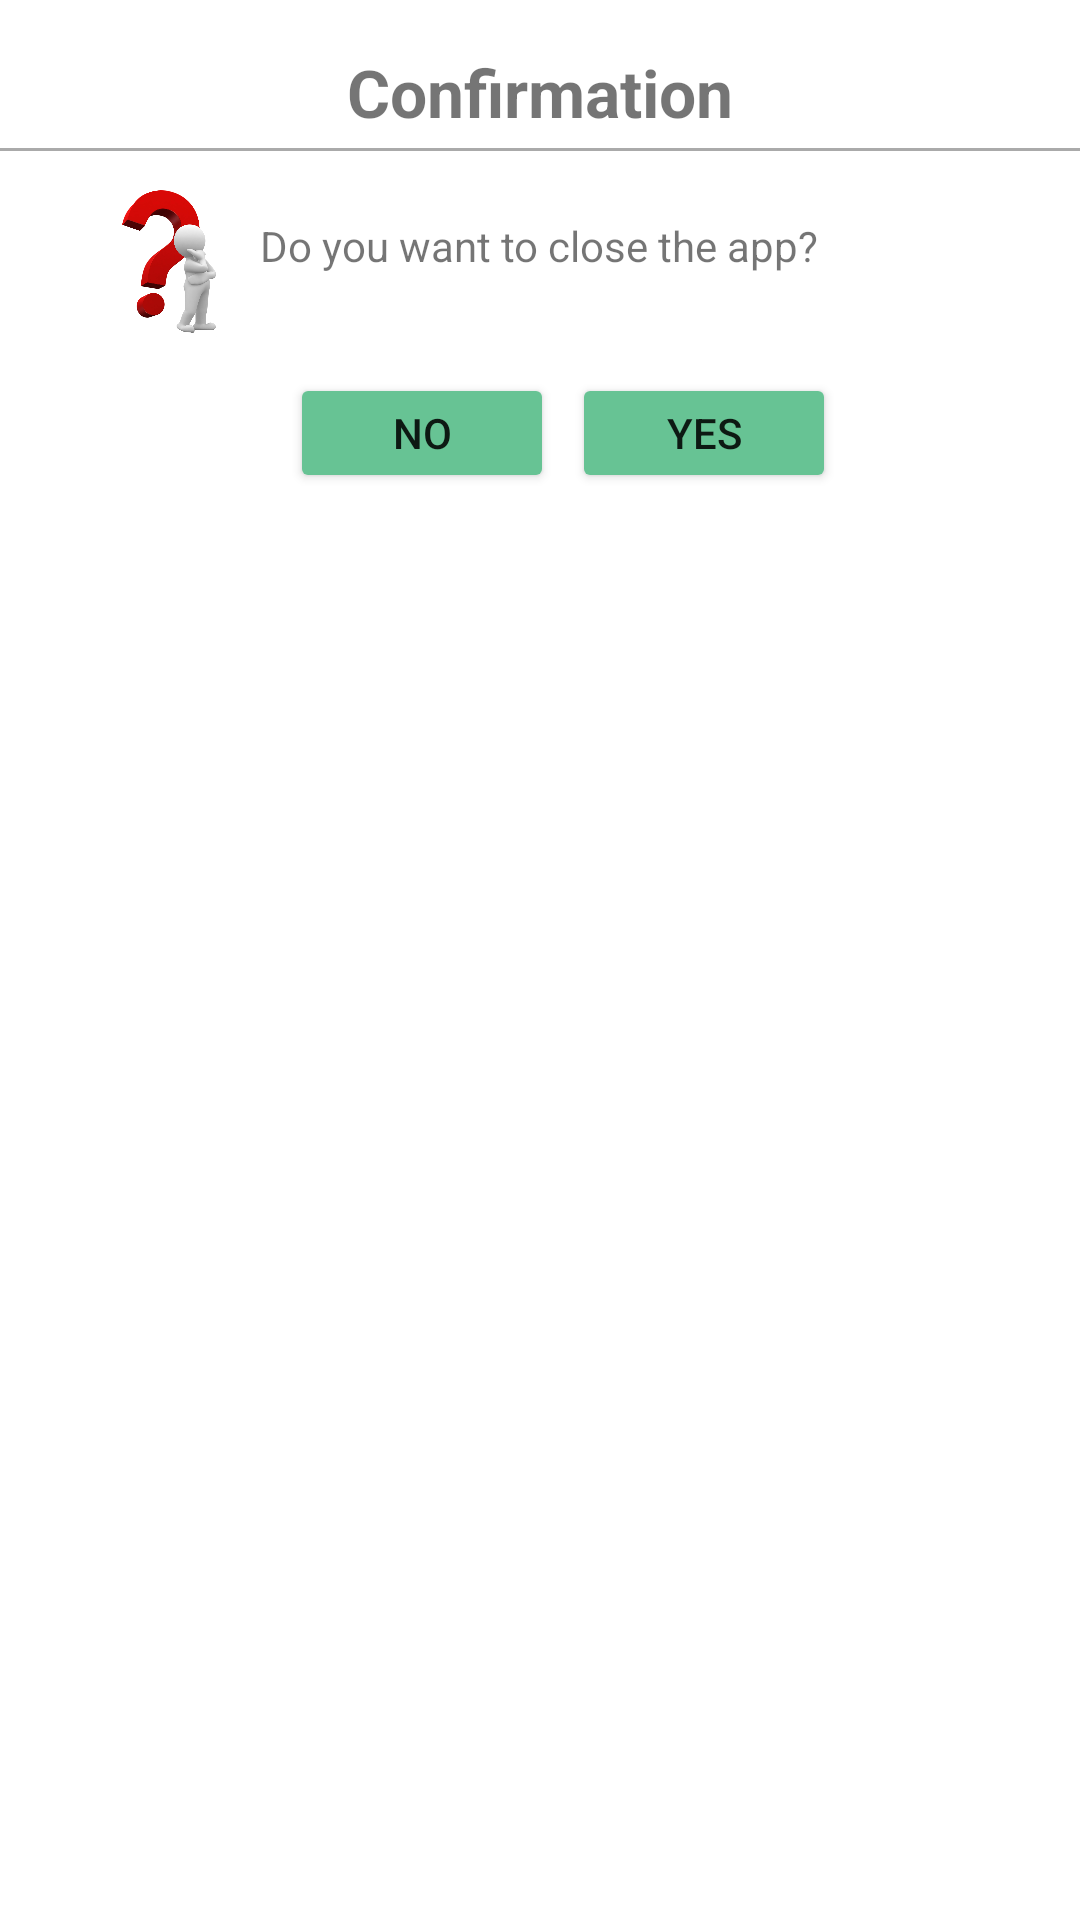

Where to tap for icons on this 1080px x 1920px app screen, as [x,y]:
question: [169,261]
